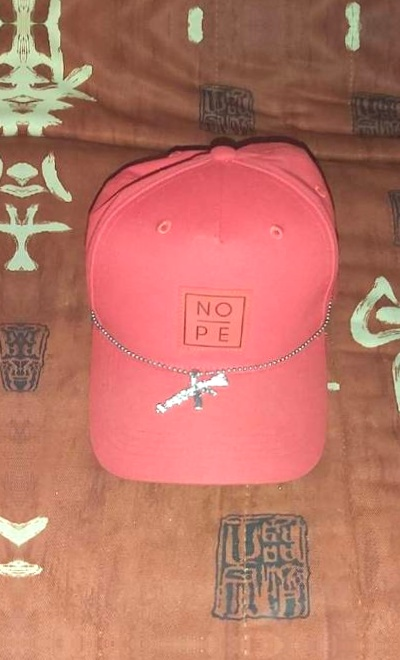Hat: (63, 136, 369, 505)
